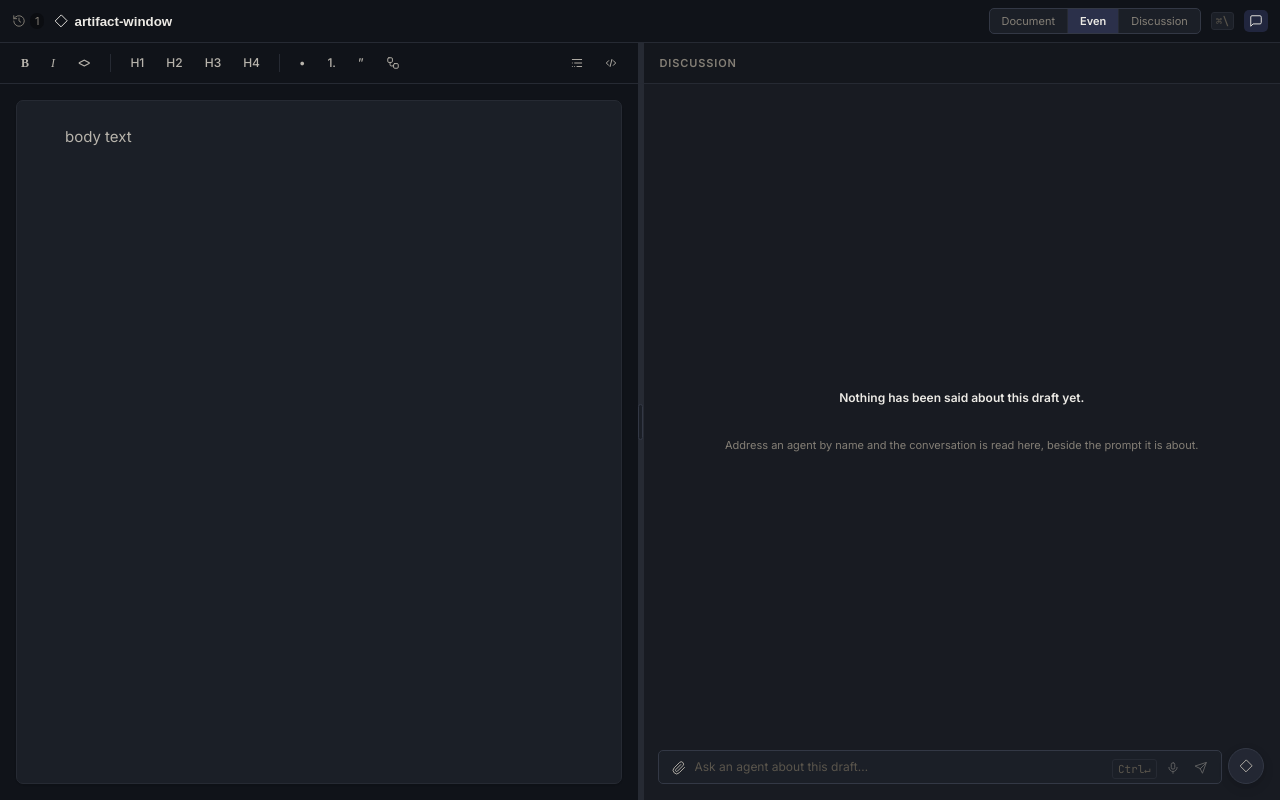
New Artifact workspace — Copy as Source › NAW-FR-NVYZ: unsaved edits are part of the copy
Expected: the text box "body text" is shown, top-left (65, 127), bottom-right (132, 146)
Click the button named "Edit as Markdown source".
click(610, 63)  # box top-left (596, 49), bottom-right (626, 77)
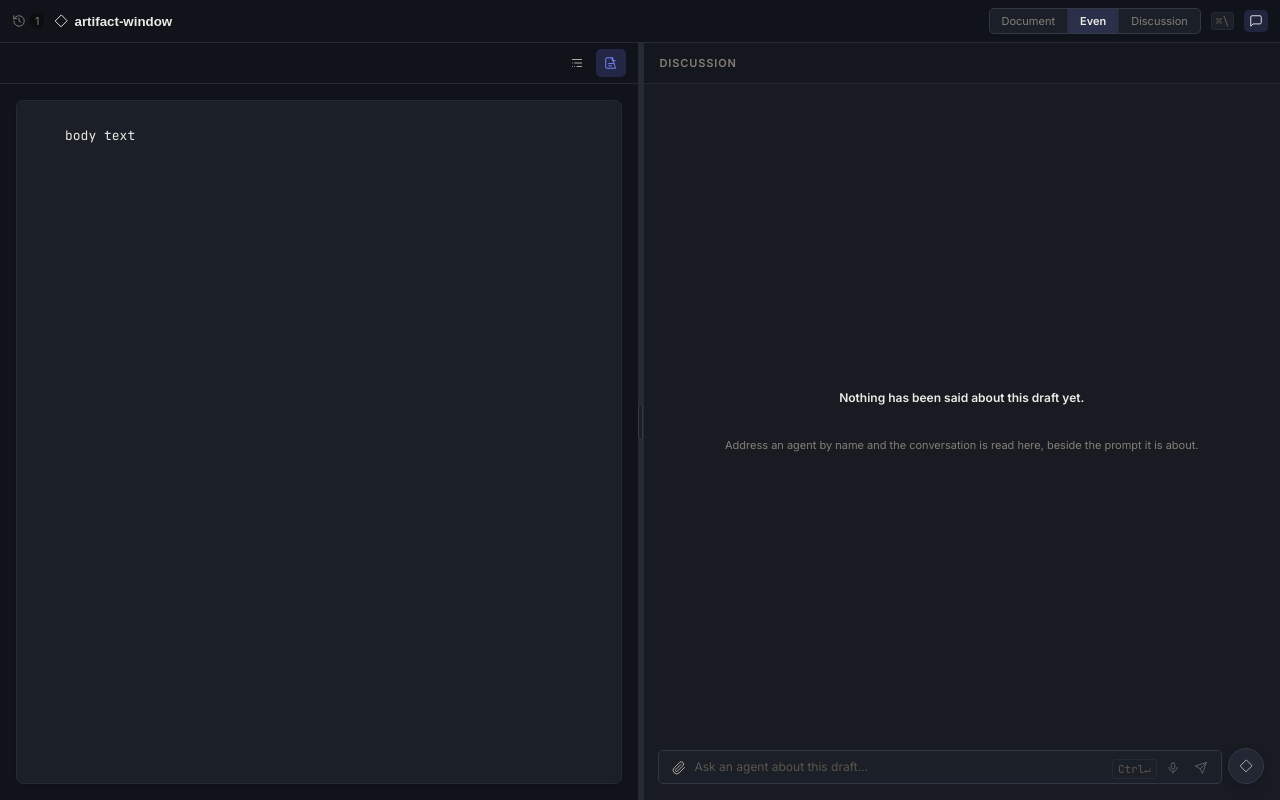
Replace the text in the text box named "Markdown source" with "an edit nobody has saved yet" at [319, 442], box top-left (17, 101), bottom-right (620, 783)
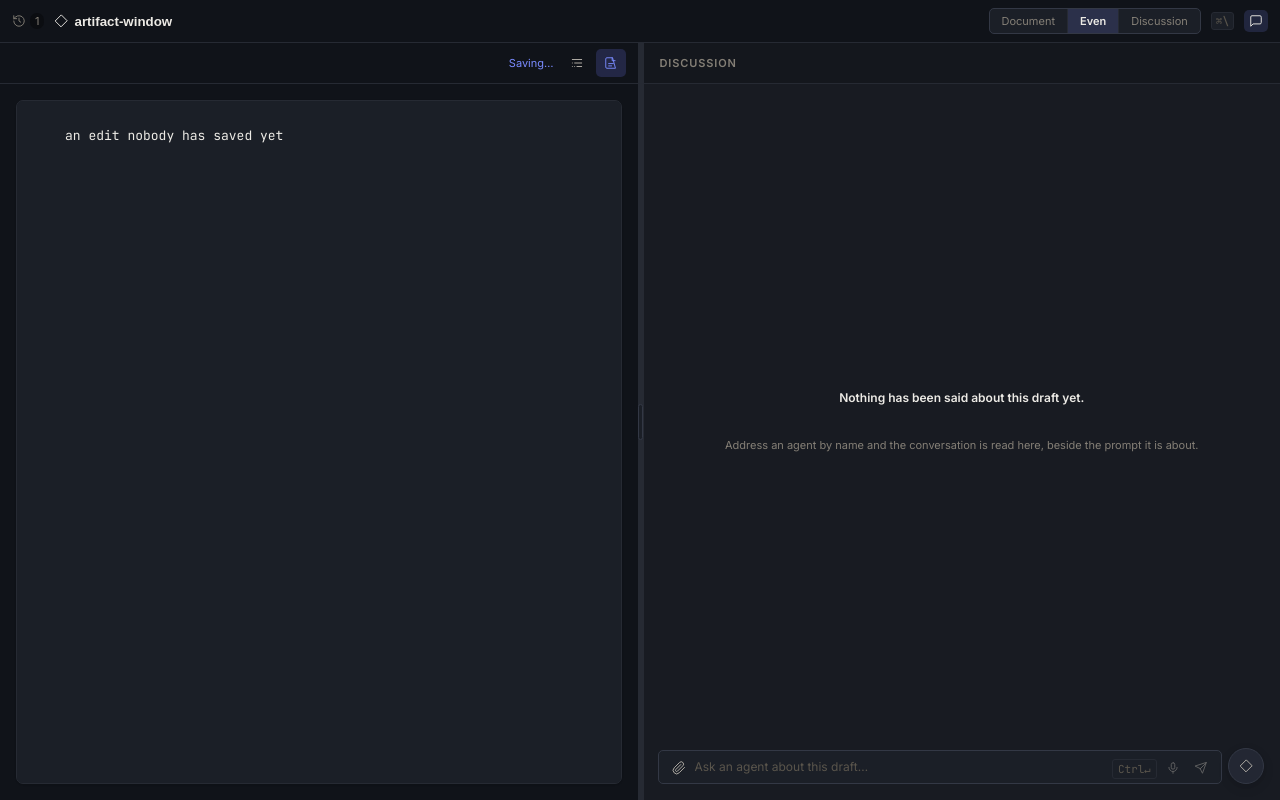
Click the button named "Draft actions".
click(1246, 766)  # box top-left (1228, 748), bottom-right (1264, 784)
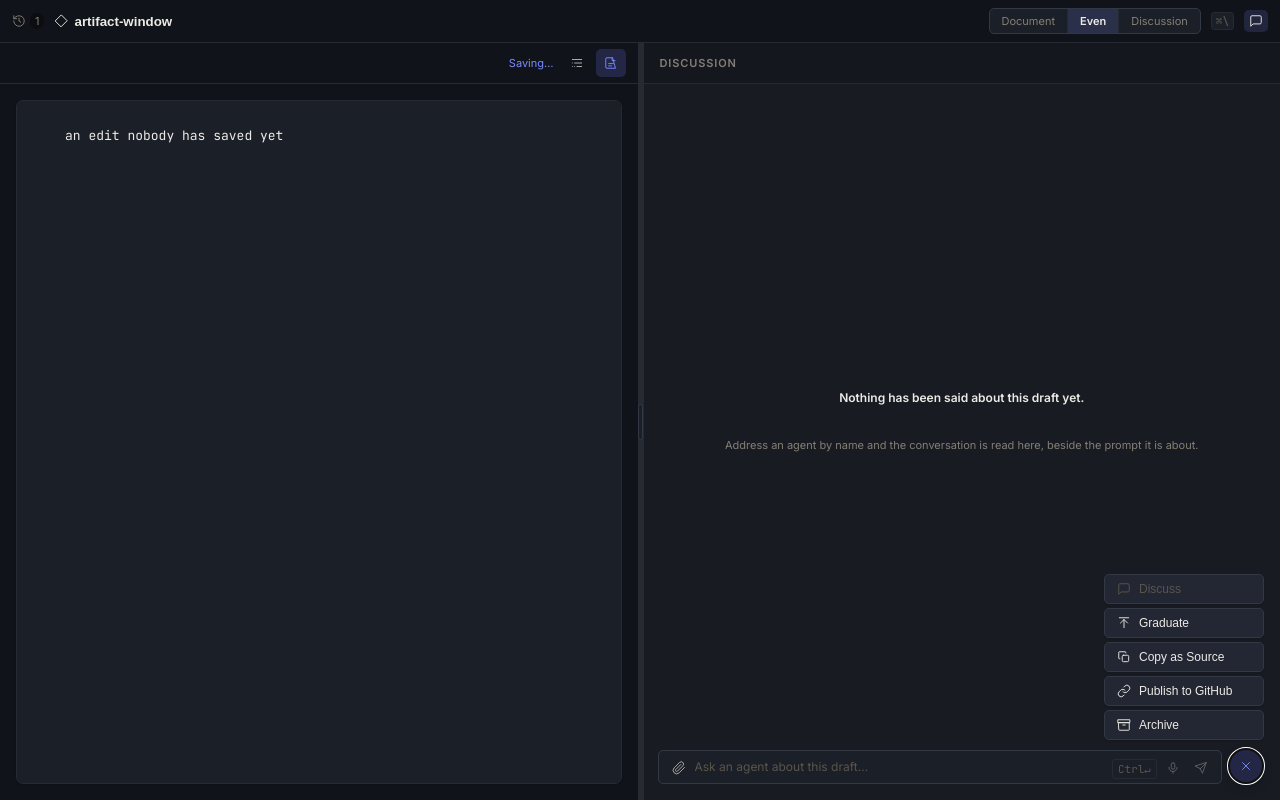
Click the menu item "Copy as Source".
click(1184, 657)  # box top-left (1104, 642), bottom-right (1264, 672)
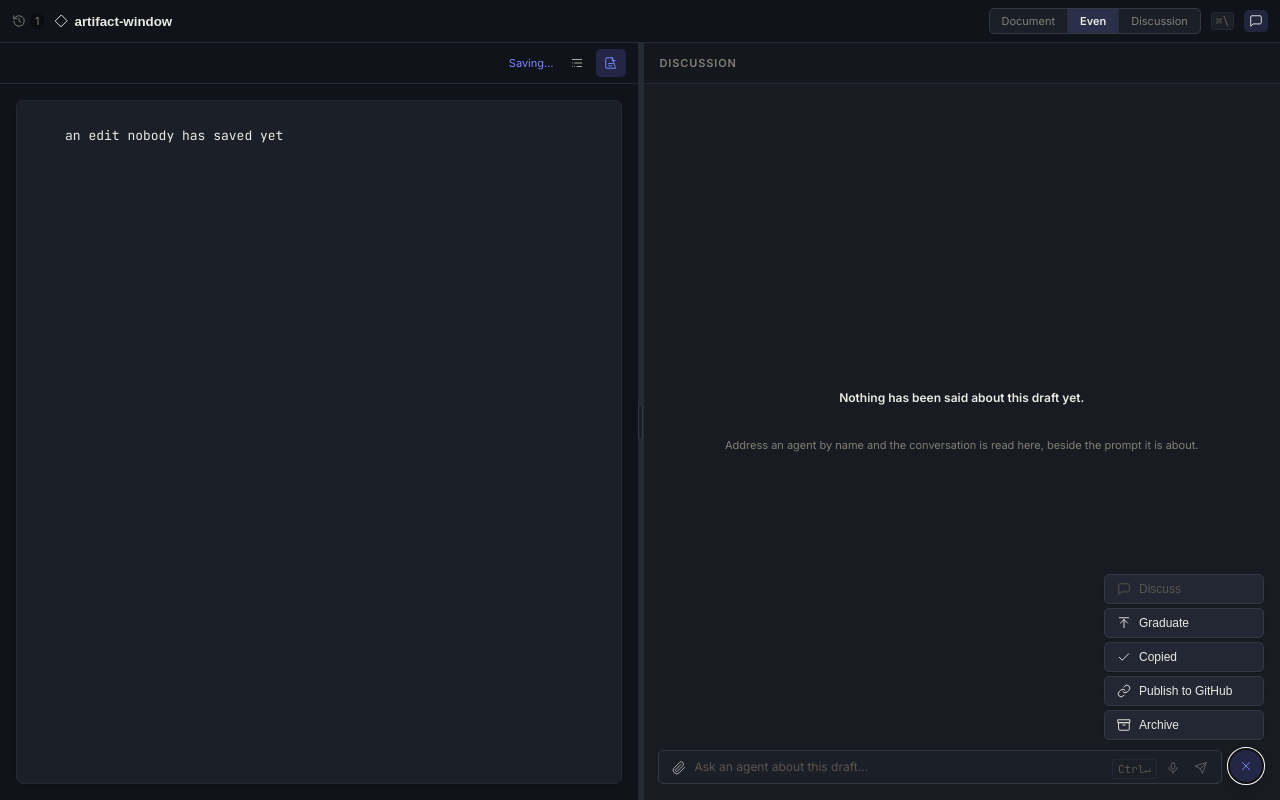
Expected: the menu item "Copied" is shown, top-left (1104, 642), bottom-right (1264, 672)
